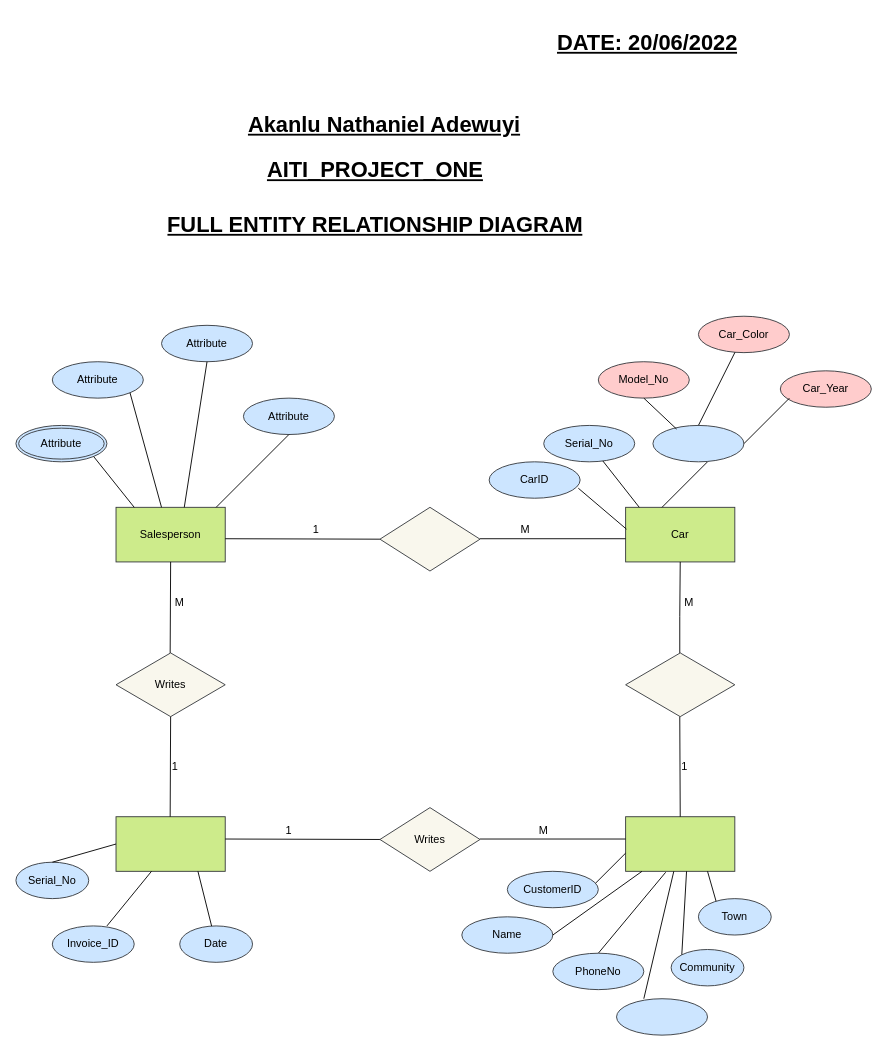
The diagram is 887 pixels wide and 1051 high, and some of its shapes have lost their labels. The centre of each missing label's shape, as x and y in pixels:
Address: pixel 662 1016
Buy: pixel 680 684
Customer: pixel 680 843
Invoices: pixel 170 843
Model: pixel 698 443
Sell: pixel 429 538
